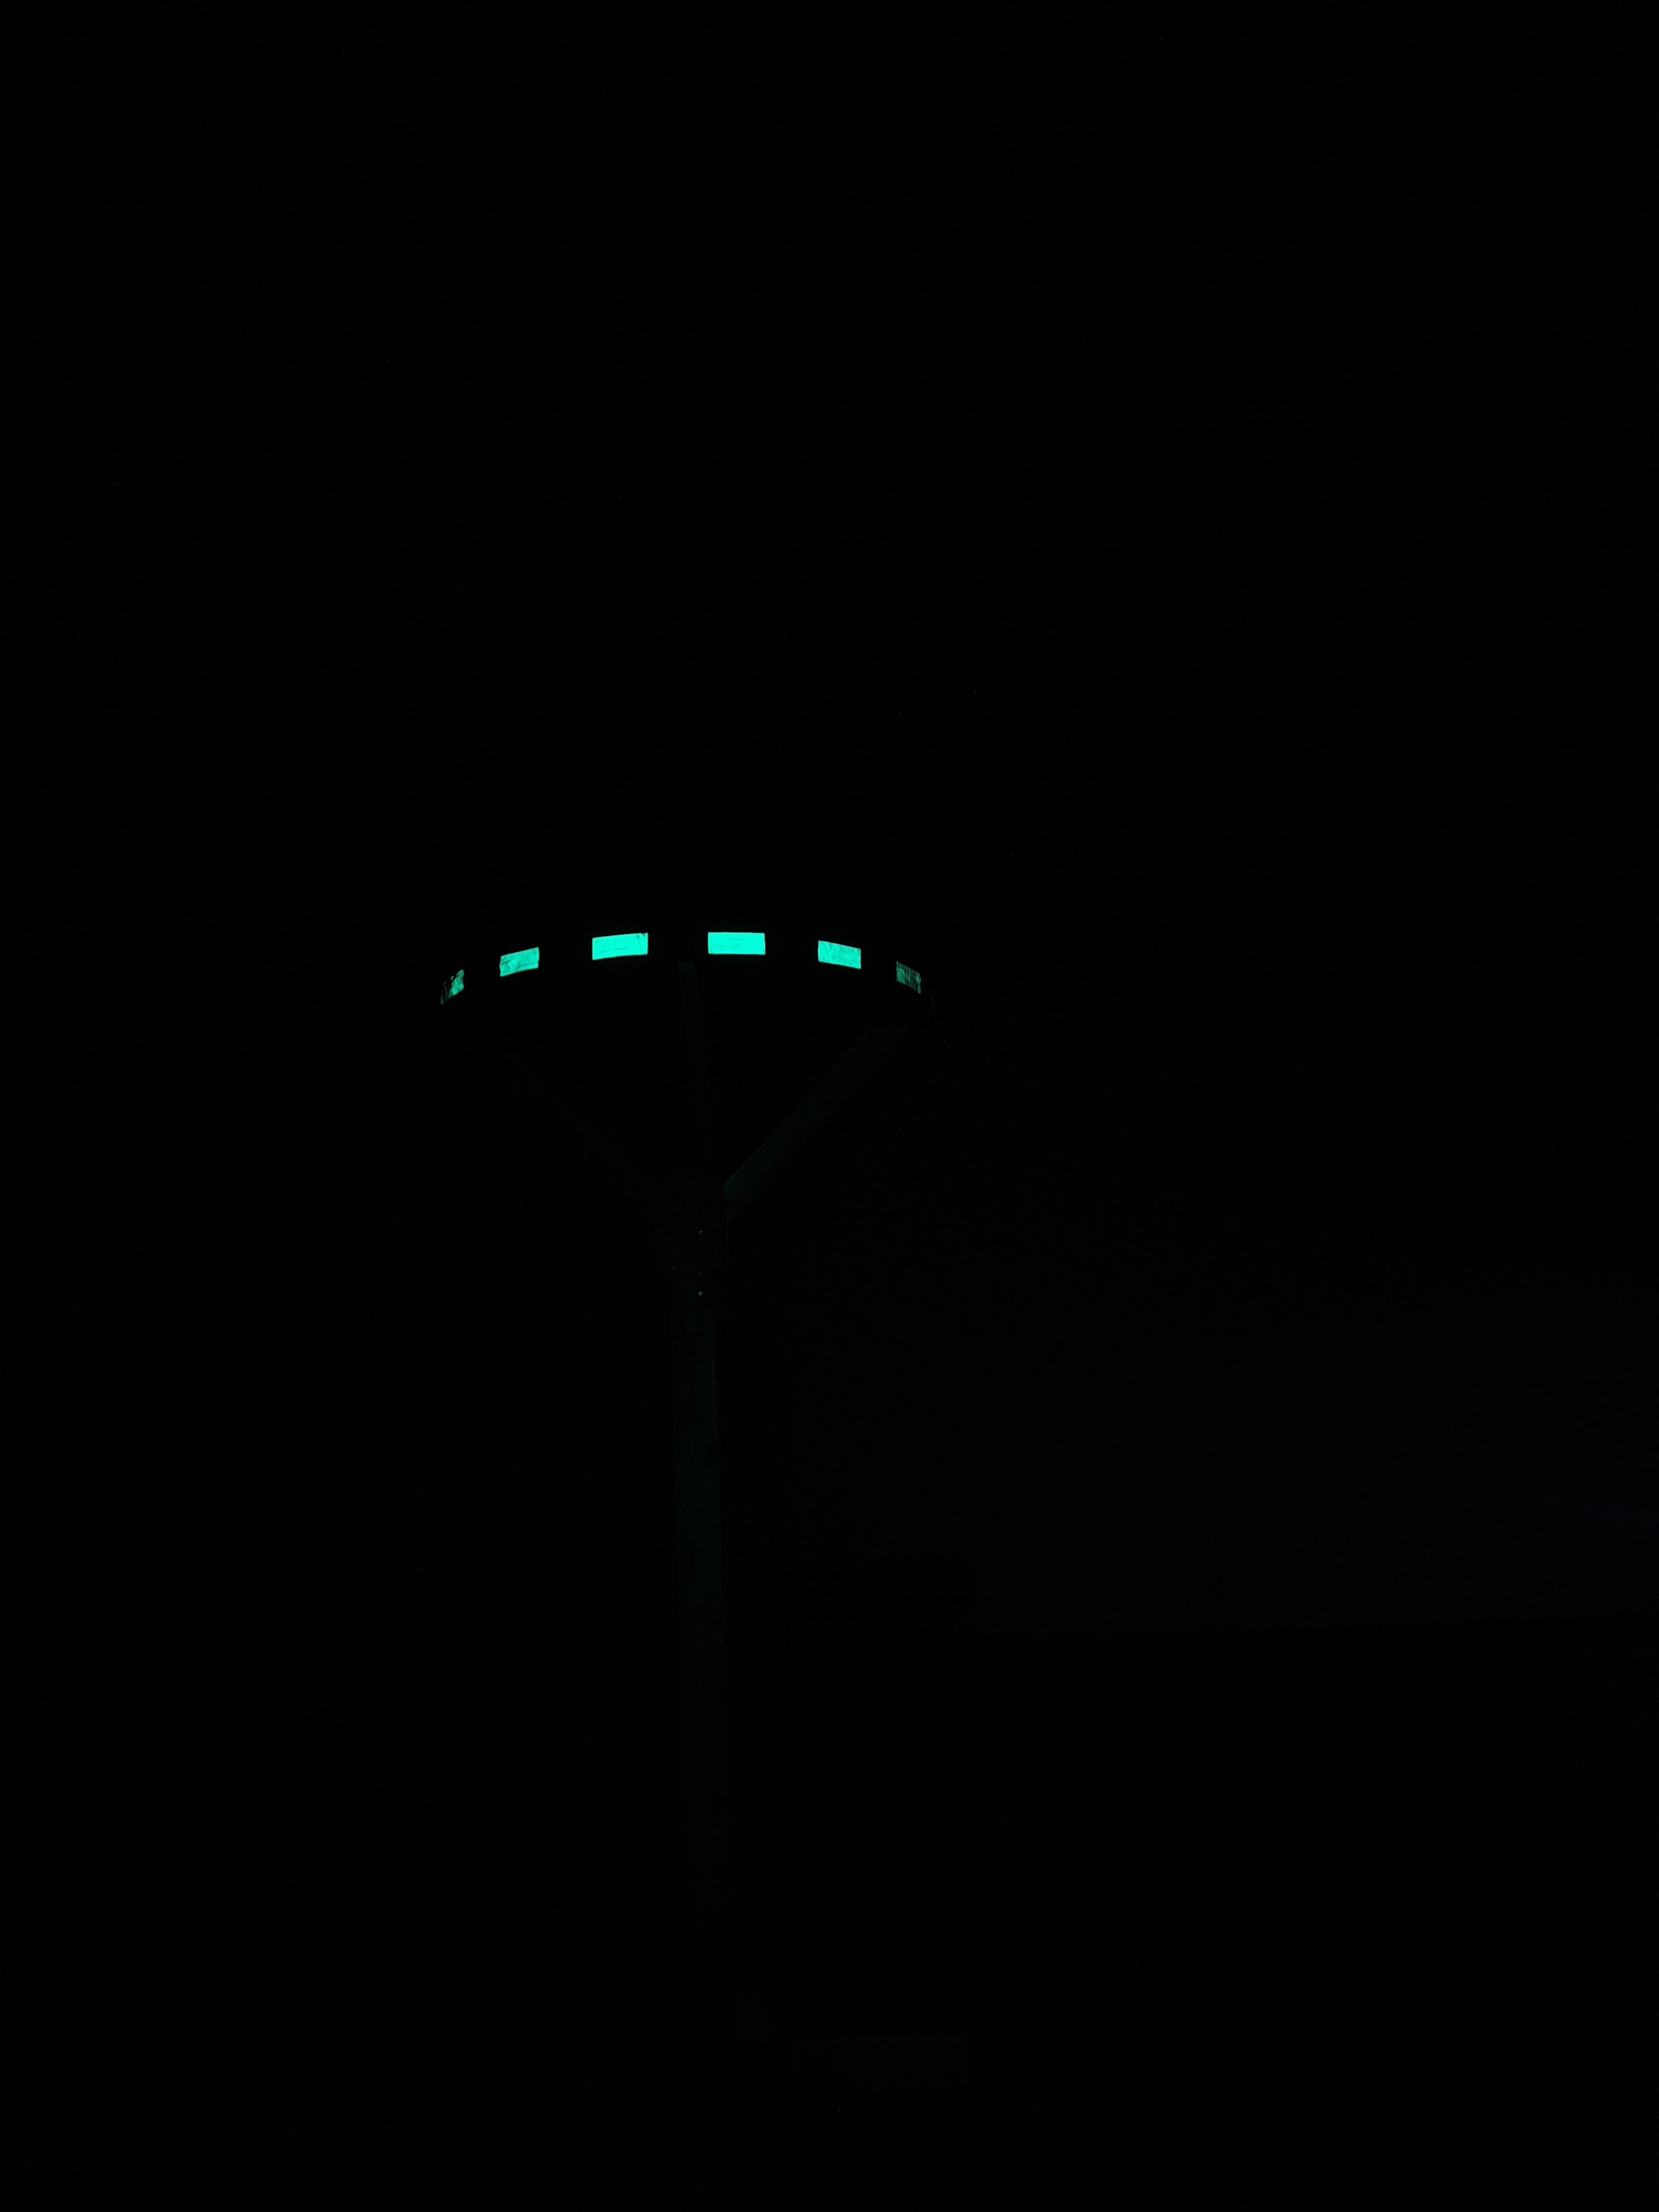hoop: (434, 920, 927, 1017)
